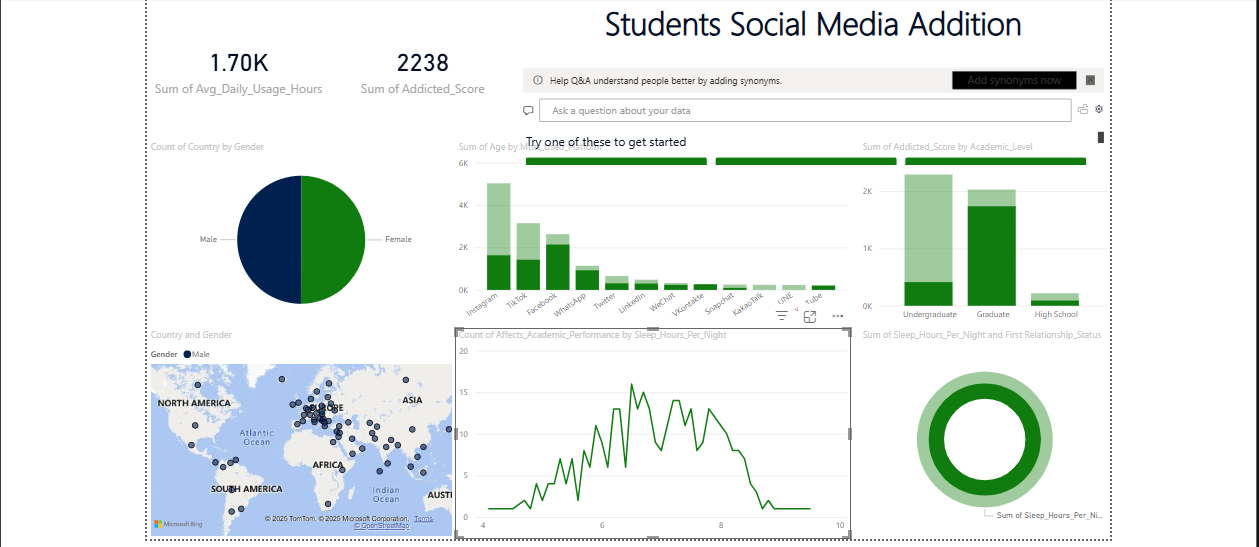

Layout of this report page (visuals, bound fields, positions):
{"tool":"powerbi","page":{"name":"Page 1","canvas":[1280,720],"ordinal":0},"visuals":[{"type":"columnChart","fields":{"Category":["Students Social Media Addiction.Most_Used_Platform"],"Y":["Sum(Students Social Media Addiction.Age)"]},"box":[409.7,190.1,526.1,249.1],"z":0},{"type":"lineChart","fields":{"Category":["Students Social Media Addiction.Sleep_Hours_Per_Night"],"Y":["CountNonNull(Students Social Media Addiction.Affects_Academic_Performance)"]},"box":[409.7,439.2,526.1,280.3],"z":1000},{"type":"map","fields":{"Category":["Students Social Media Addiction.Country"],"Series":["Students Social Media Addiction.Gender"]},"box":[0,439.2,409.7,280.3],"z":2000},{"type":"pieChart","fields":{"Category":["Students Social Media Addiction.Gender"],"Y":["CountNonNull(Students Social Media Addiction.Country)"]},"box":[0,190.1,409.7,249.1],"z":3000},{"type":"card","fields":{"Values":["Sum(Students Social Media Addiction.Avg_Daily_Usage_Hours)"]},"box":[0,0,243.5,189.7],"z":4000},{"type":"card","fields":{"Values":["Sum(Students Social Media Addiction.Addicted_Score)"]},"box":[243.5,0,246.5,189.7],"z":4001},{"type":"donutChart","fields":{"Y":["Sum(Students Social Media Addiction.Sleep_Hours_Per_Night)"]},"box":[945.8,439.2,334.2,280.3],"z":4002},{"type":"columnChart","fields":{"Category":["Students Social Media Addiction.Academic_Level"],"Y":["Sum(Students Social Media Addiction.Addicted_Score)"]},"box":[945.8,190.1,334.2,249.1],"z":4003},{"type":"textbox","box":[490,0,790.2,80.7],"z":4005},{"type":"qnaVisual","box":[490,80.7,790,150],"z":4006}]}

Visuals, with their boxes on the page's 1280x720 design canvas (x1, y1, x2, y2). These are canvas units, not pixel positions in the 1259x547 screenshot, which may show the page scaled, cropped or inside an application window:
columnChart - Students Social Media Addiction.Most_Used_Platform x Sum(Students Social Media Addiction.Age): BBox(410, 190, 936, 439)
lineChart - Students Social Media Addiction.Sleep_Hours_Per_Night x CountNonNull(Students Social Media Addiction.Affects_Academic_Performance): BBox(410, 439, 936, 720)
map - Students Social Media Addiction.Country x Students Social Media Addiction.Gender: BBox(0, 439, 410, 720)
pieChart - Students Social Media Addiction.Gender x CountNonNull(Students Social Media Addiction.Country): BBox(0, 190, 410, 439)
card - Sum(Students Social Media Addiction.Avg_Daily_Usage_Hours): BBox(0, 0, 244, 190)
card - Sum(Students Social Media Addiction.Addicted_Score): BBox(244, 0, 490, 190)
donutChart - Sum(Students Social Media Addiction.Sleep_Hours_Per_Night): BBox(946, 439, 1280, 720)
columnChart - Students Social Media Addiction.Academic_Level x Sum(Students Social Media Addiction.Addicted_Score): BBox(946, 190, 1280, 439)
textbox: BBox(490, 0, 1280, 81)
qnaVisual: BBox(490, 81, 1280, 231)
